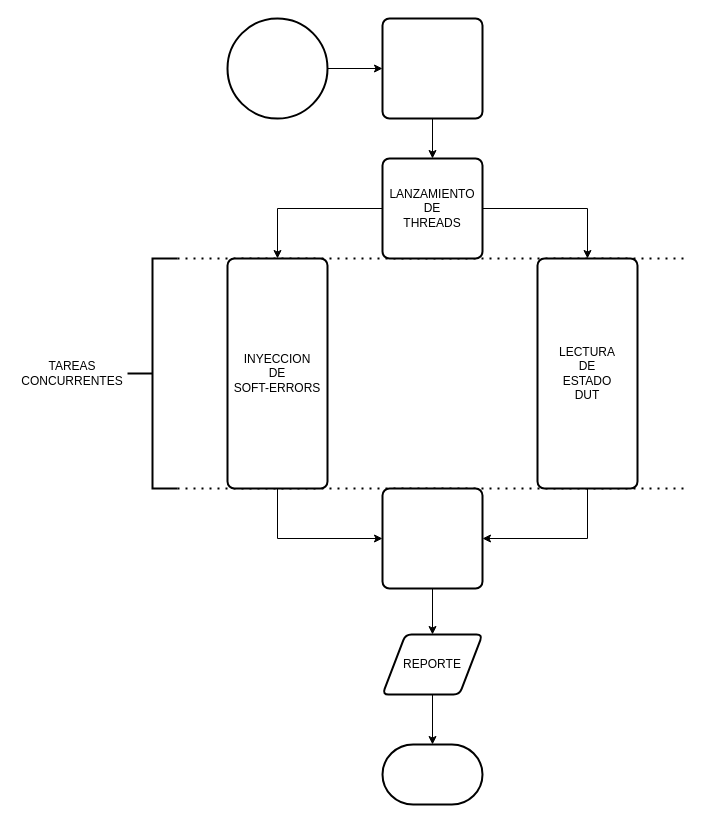
Image size: 706x822. Some labels were removed from this diagram. Each missing label, with the centre of its shape:
JOIN: [432,538]
PLANIFICACIÓN DE ENSAYO: [432,68]
